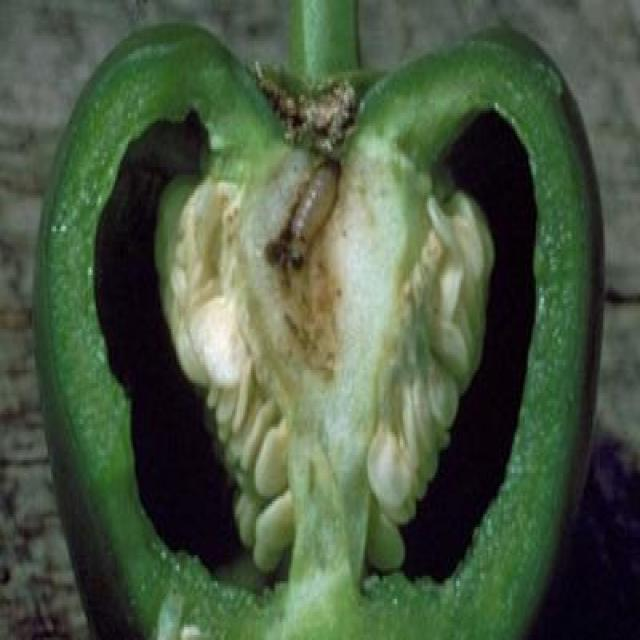cornborer-Larva-: (283, 151, 351, 279)
